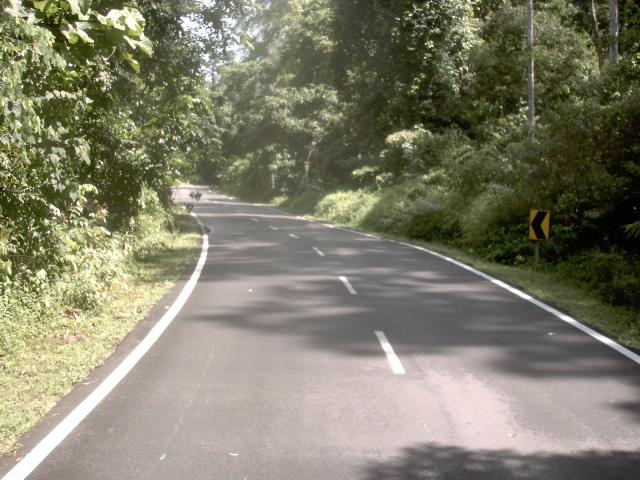traffic_sign: (523, 203, 557, 248)
